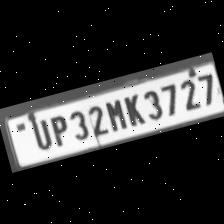2: (174, 74, 202, 112), (83, 99, 109, 138)
3: (138, 83, 164, 122), (64, 104, 90, 142)
7: (156, 78, 182, 116), (193, 69, 219, 107)
K: (118, 90, 146, 128)
M: (101, 94, 128, 132)
P: (45, 110, 72, 148)
U: (25, 115, 53, 152)
